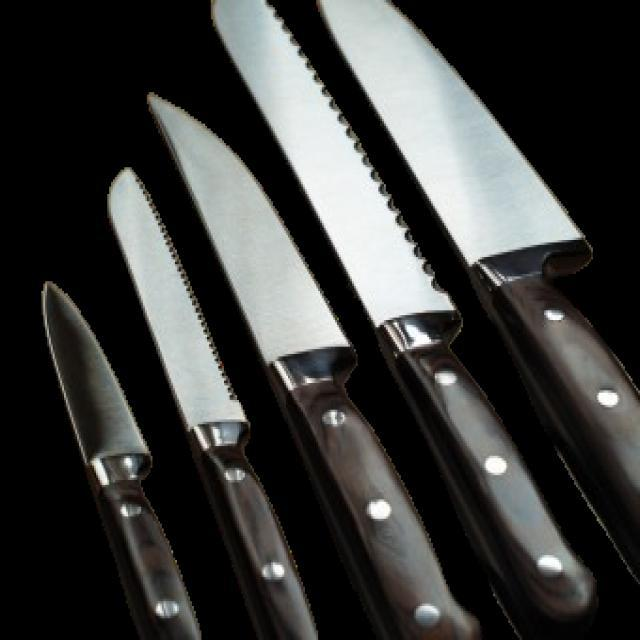knife: (211, 0, 605, 637), (141, 92, 486, 638), (319, 0, 638, 588), (104, 154, 321, 635), (38, 286, 205, 635)
